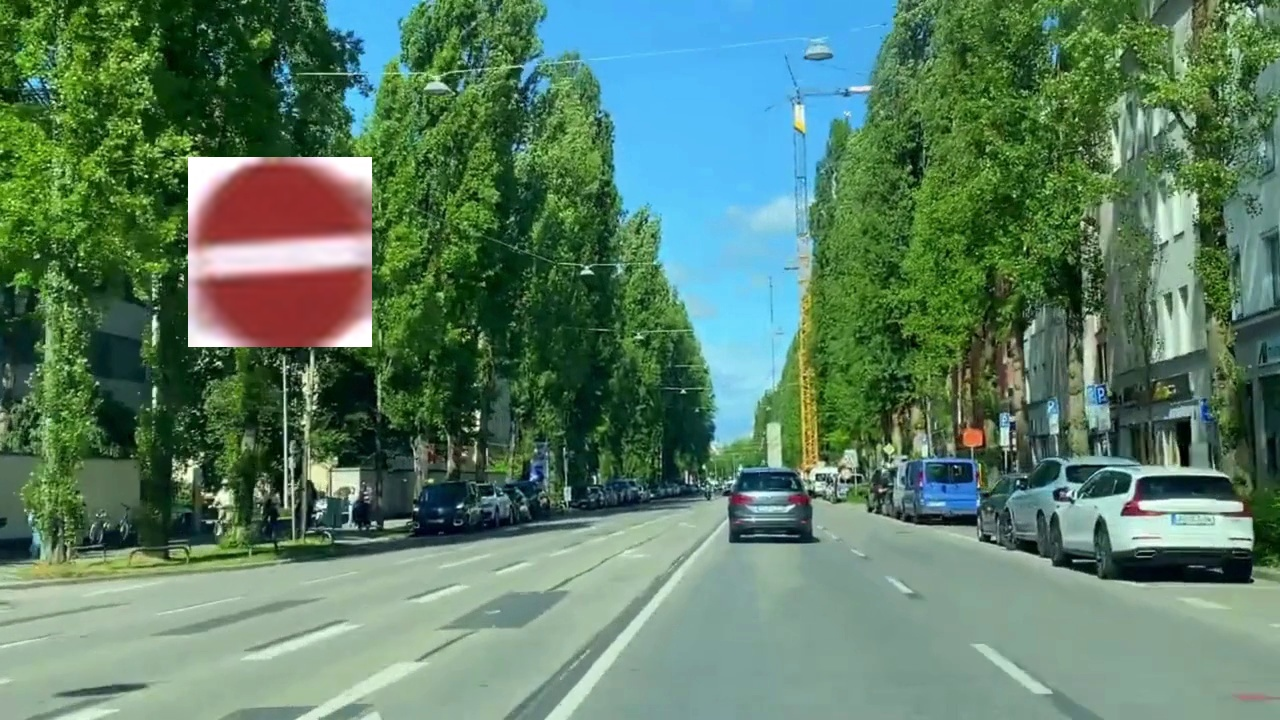No entry: (188, 157, 372, 347)
